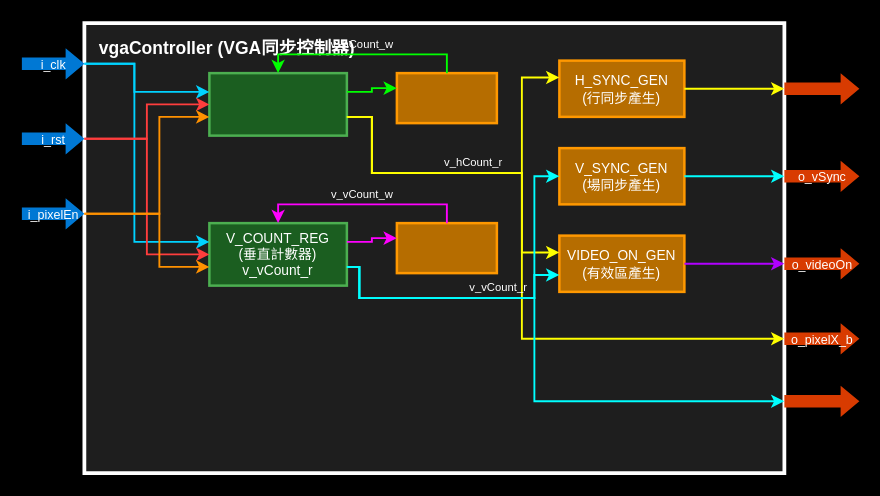
Image size: 880x496. Some labels were removed from this diagram. Here are the shapes that lost their labels. From the top down, the centre of each, then its label:
At pixel 278 103: "H_COUNT_REG (水平計數器) v_hCount_r".
At pixel 446 97: "H_ADDER (水平遞增)".
At pixel 821 88: "o_hSync".
At pixel 446 247: "V_ADDER (垂直遞增)".
At pixel 821 400: "o_pixelY_b".
